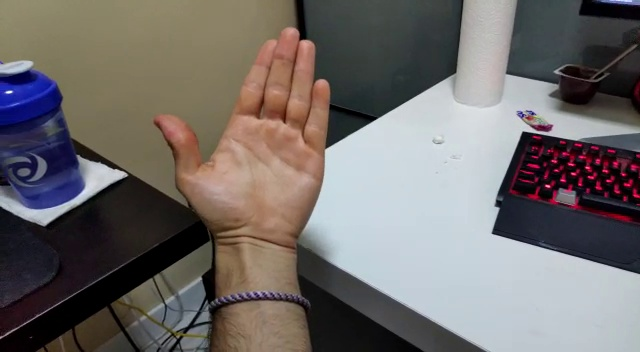Palm: (153, 24, 333, 253)
